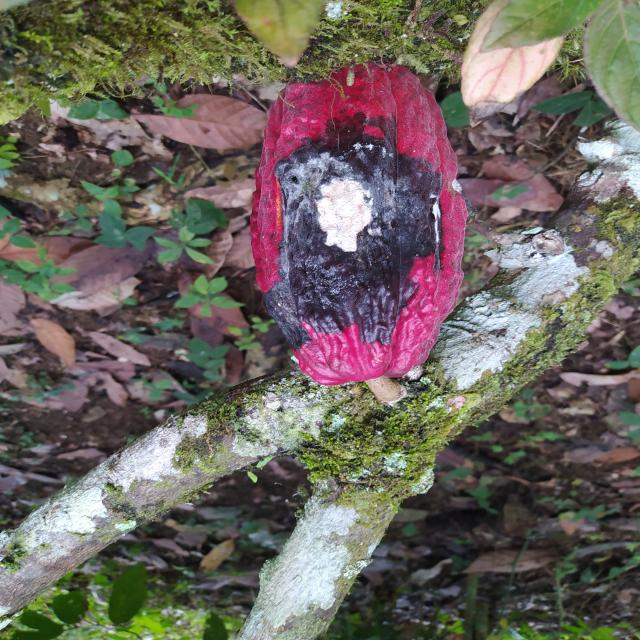Monilia: (250, 57, 469, 386)
